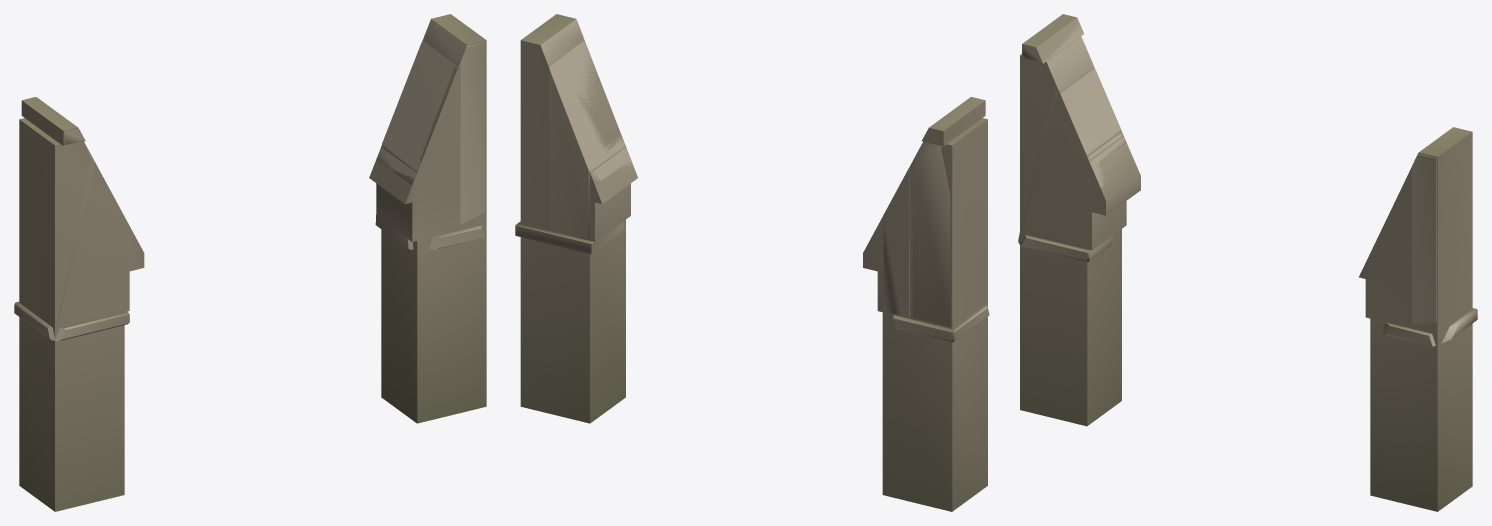
Rendered from tombs_arch_broken.glb.
3 views of the same model, side by side, from view 1: azimuth 30°, elevation 25°; view 2: azimuth 150°, elevation 25°; view 3: azimuth 330°, elevation 25° (orthographic). The views are drawn at different scales.
Parts seen in each view (by area): view 1: tombs_arch_broken_far, tombs_arch_broken; view 2: tombs_arch_broken_far, tombs_arch_broken; view 3: tombs_arch_broken_far, tombs_arch_broken.
Part boxes in pixels (bbox=[...]): tombs_arch_broken_far: bbox=[19, 14, 486, 511]; tombs_arch_broken: bbox=[14, 20, 485, 341]; tombs_arch_broken_far: bbox=[520, 14, 987, 511]; tombs_arch_broken: bbox=[515, 20, 989, 342]; tombs_arch_broken_far: bbox=[1020, 14, 1472, 511]; tombs_arch_broken: bbox=[1018, 22, 1477, 346].
Size of the model in its own units: 24.01 by 19.95 by 4.01.
